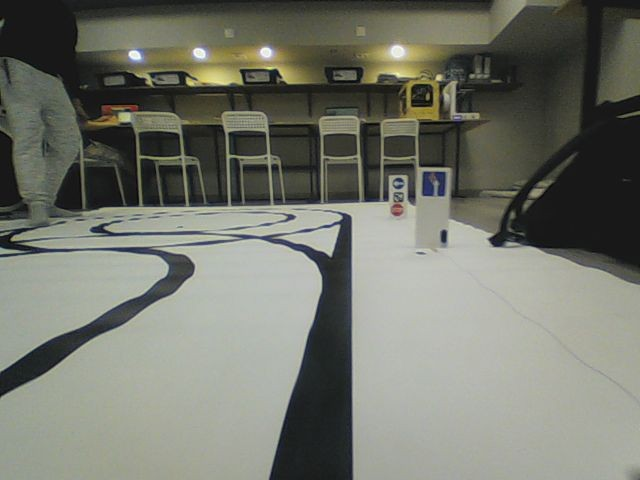priority_movement: (420, 170, 447, 198)
